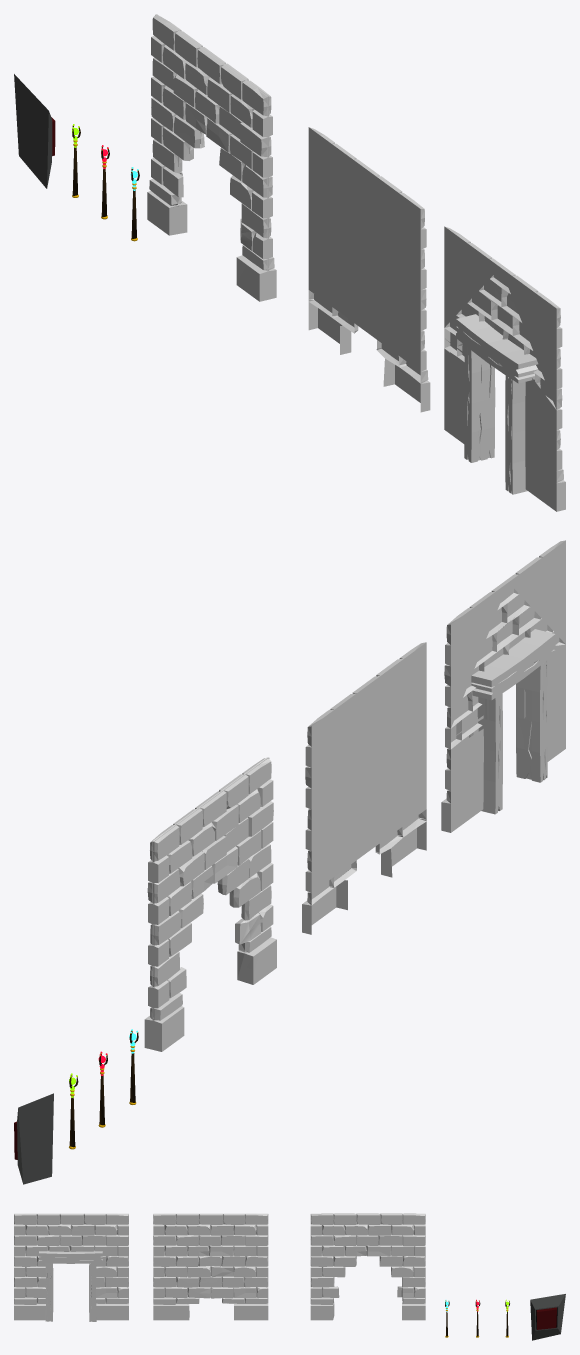
File: GreenWand.fbx
3 views of the same model, one above another, from view 1: azimuth 30°, elevation 25°; view 2: azimuth 150°, elevation 25°; view 3: azimuth 270°, elevation 25° (orthographic). The views are drawn at different scales.
Visible parts, largest first — view 1: DoorWall, SmallHoleWall, BigHoleWall, Button_Plate; view 2: DoorWall, SmallHoleWall, BigHoleWall, Button_Plate; view 3: SmallHoleWall, DoorWall, BigHoleWall, Button_Plate, Button.
Boxes of the visible parts, box(x1,y1,x2,y2) form: DoorWall: box(444, 226, 565, 511); SmallHoleWall: box(308, 127, 430, 412); BigHoleWall: box(147, 14, 276, 301); Button_Plate: box(14, 74, 52, 188); DoorWall: box(441, 540, 565, 832); SmallHoleWall: box(302, 642, 426, 934); BigHoleWall: box(144, 757, 276, 1051); Button_Plate: box(17, 1093, 53, 1184); SmallHoleWall: box(153, 1213, 268, 1320); DoorWall: box(14, 1213, 128, 1321); BigHoleWall: box(310, 1213, 425, 1320); Button_Plate: box(530, 1294, 565, 1340); Button: box(536, 1307, 556, 1329).
Size of the model in its own units: 57.89 by 491 by 1919.
